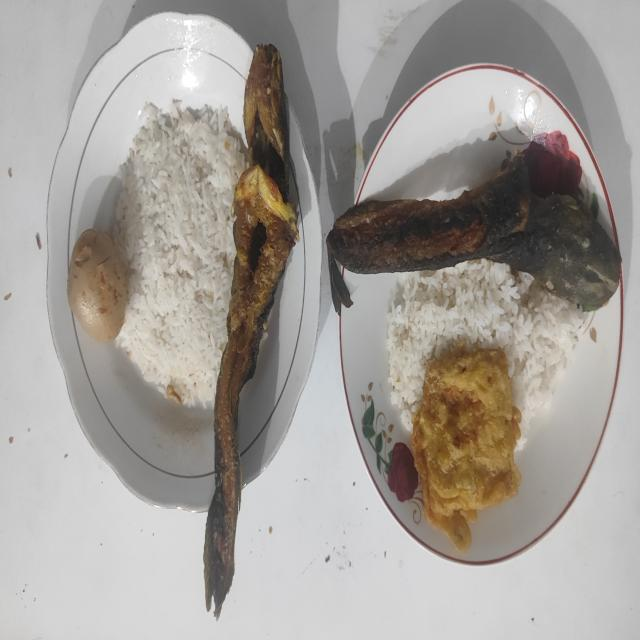nasi_putih: (110, 100, 248, 408), (386, 259, 589, 449)
